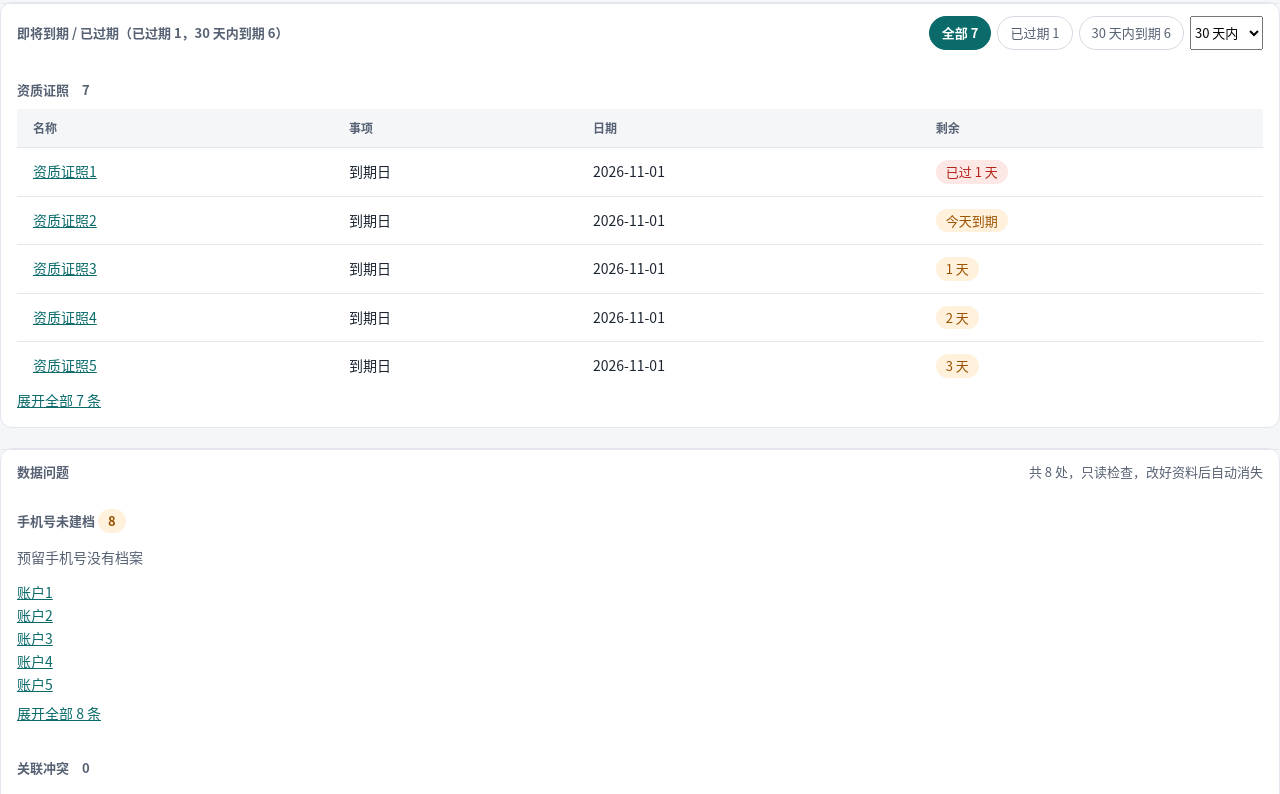
Test case: 资料总览 › 数量按菜单分组；到期提醒按资料类型分组、默认只列前 5 条，可展开，可只看已过期
This screenshot has width=1280, height=794.
(page scrolled)
Expected: the link "资质证照5" is shown, [33,355,97,375]
Expected: the text "资质证照6" is not shown
Step 1. Click the button "展开全部 7 条" → [59, 400], box [17,390,101,411]
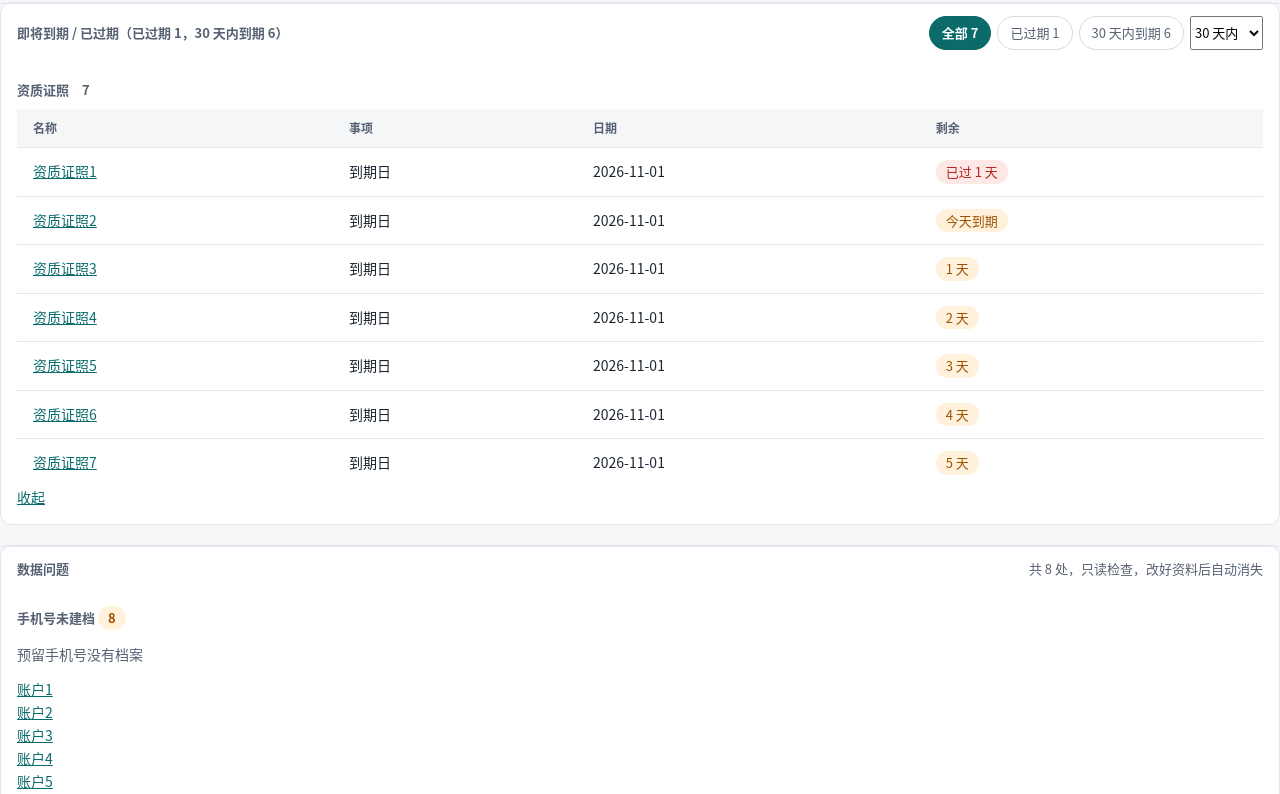
Expected: the link "资质证照7" is shown, [33,452,97,472]
Step 2. Click the button "已过期 1" → [1035, 33], box [997,16,1072,50]
(page scrolled)
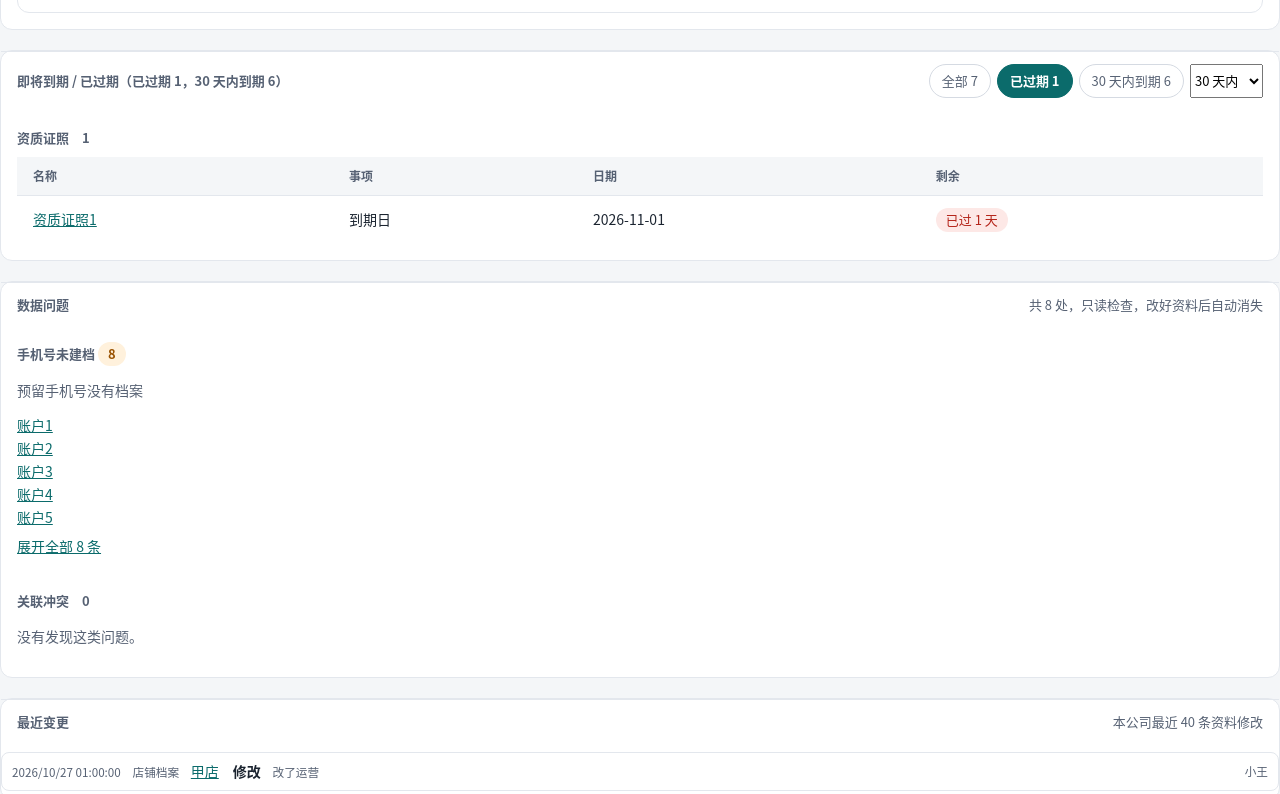
Expected: the link "资质证照1" is shown, [33,209,97,229]
Expected: the link "资质证照2" is gone
